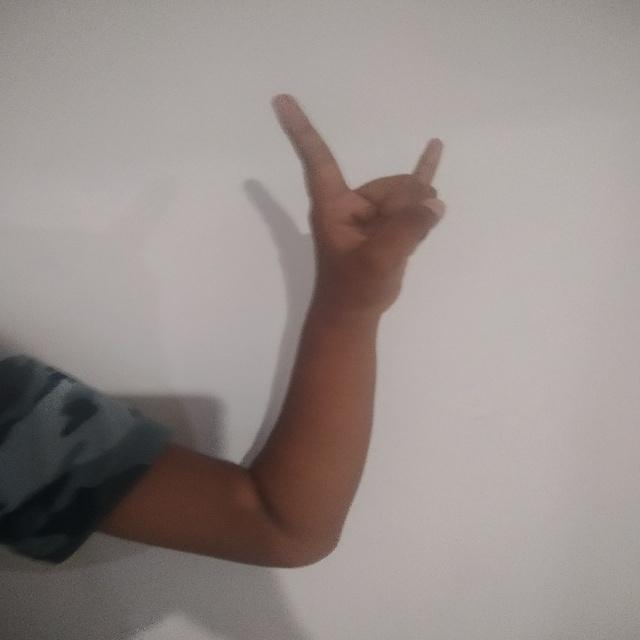Corna: (259, 82, 457, 323)
